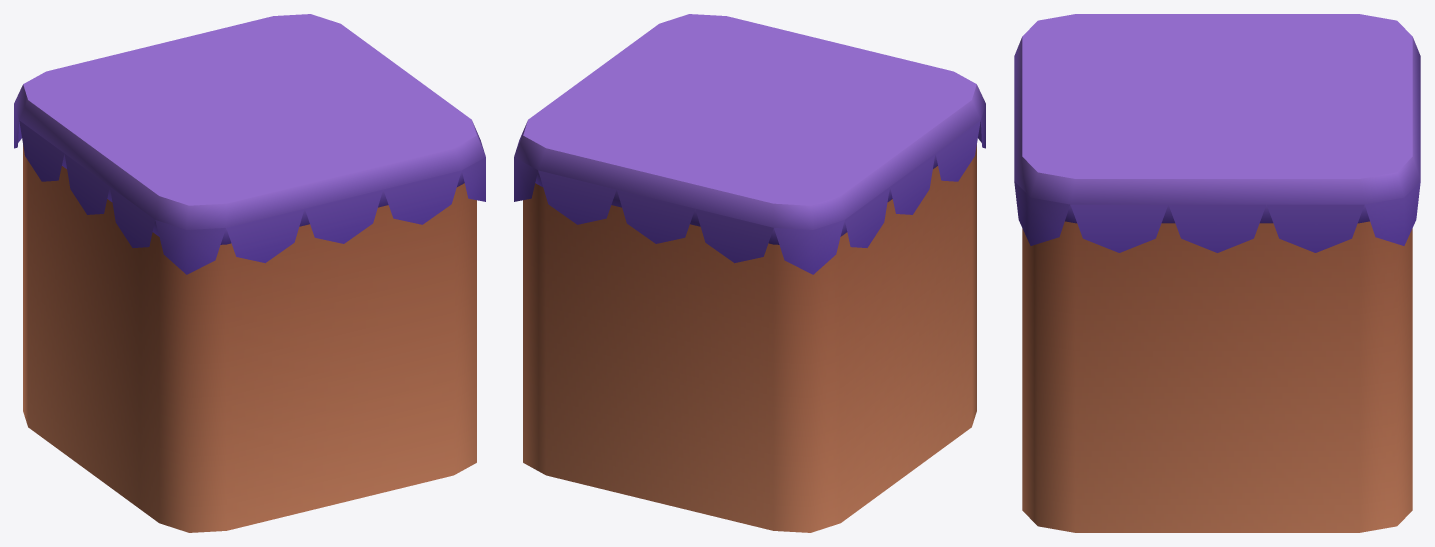
The model's file is pfa_block-grass-overhang-large-tall.glb.
3 renders of one model, left to right at view 1: azimuth 30°, elevation 25°; view 2: azimuth 150°, elevation 25°; view 3: azimuth 270°, elevation 25°, orthographic. The views are drawn at different scales.
Visible parts, largest first — view 1: block-grass-overhang-large-tall; view 2: block-grass-overhang-large-tall; view 3: block-grass-overhang-large-tall.
Part boxes in pixels (x1=…): block-grass-overhang-large-tall: x1=14, y1=14, x2=485, y2=532; block-grass-overhang-large-tall: x1=514, y1=14, x2=985, y2=532; block-grass-overhang-large-tall: x1=1014, y1=14, x2=1420, y2=532.
Size of the model in its own units: 2.08 by 2 by 2.08.
Materials: 1 (1 with a texture image).
